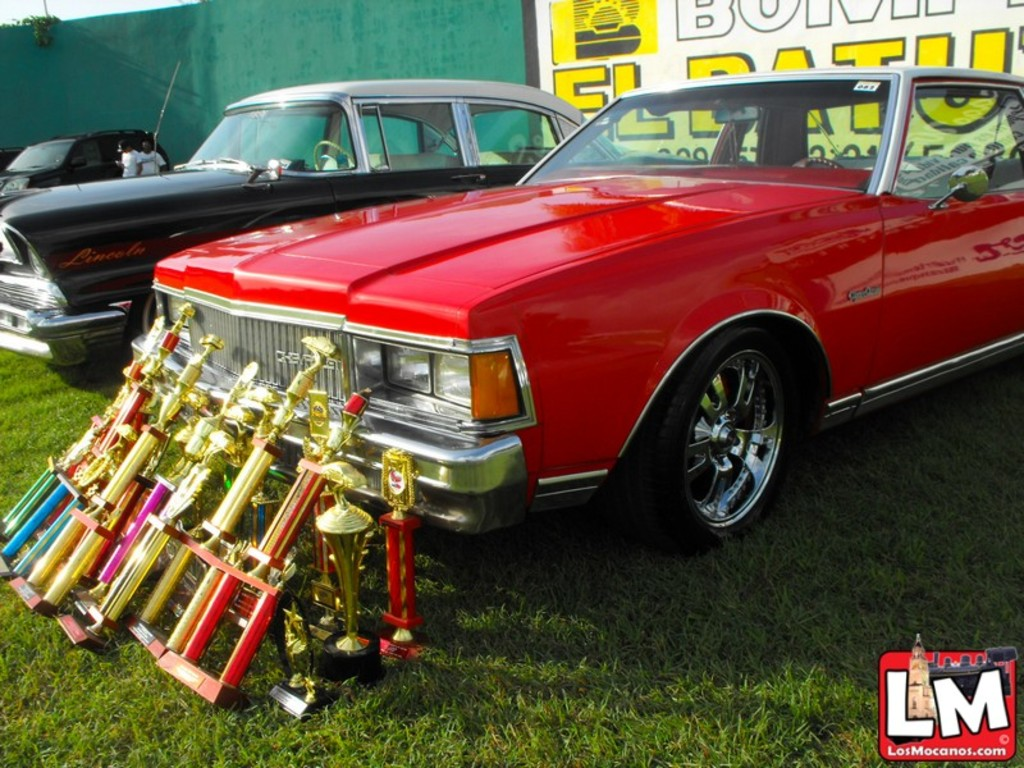Car: (126, 67, 1022, 555), (0, 81, 636, 371), (0, 121, 167, 194)
